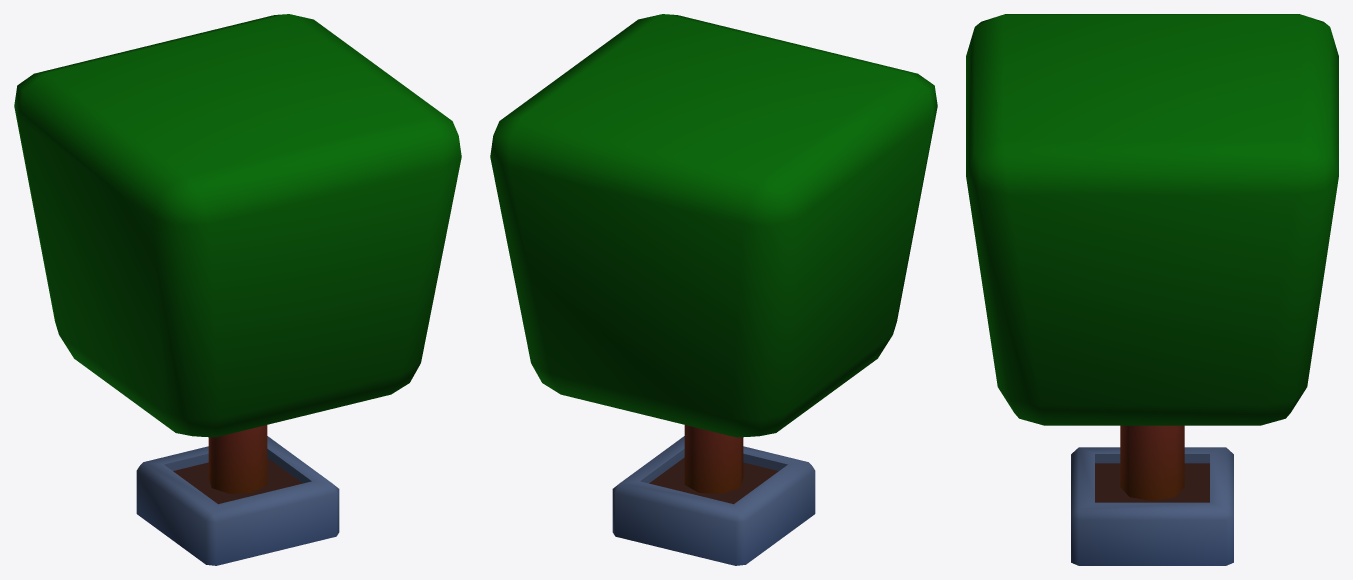
File: Bush.fbx
The picture shows the model from 3 angles, left to right: view 1: azimuth 30°, elevation 25°; view 2: azimuth 150°, elevation 25°; view 3: azimuth 270°, elevation 25°; orthographic projection. The views are drawn at different scales.
Parts seen in each view (by area): view 1: Bush; view 2: Bush; view 3: Bush.
Boxes of the visible parts, x1,y1,x2,y2 form: Bush: (14, 14, 461, 565); Bush: (490, 14, 937, 565); Bush: (966, 14, 1338, 565).
Bounding box in the file's own units: 165 × 221 × 165.
